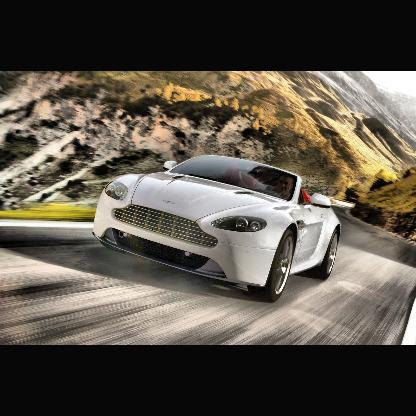Aston Martin V8 Vantage Convertible 2012: (94, 155, 343, 304)
